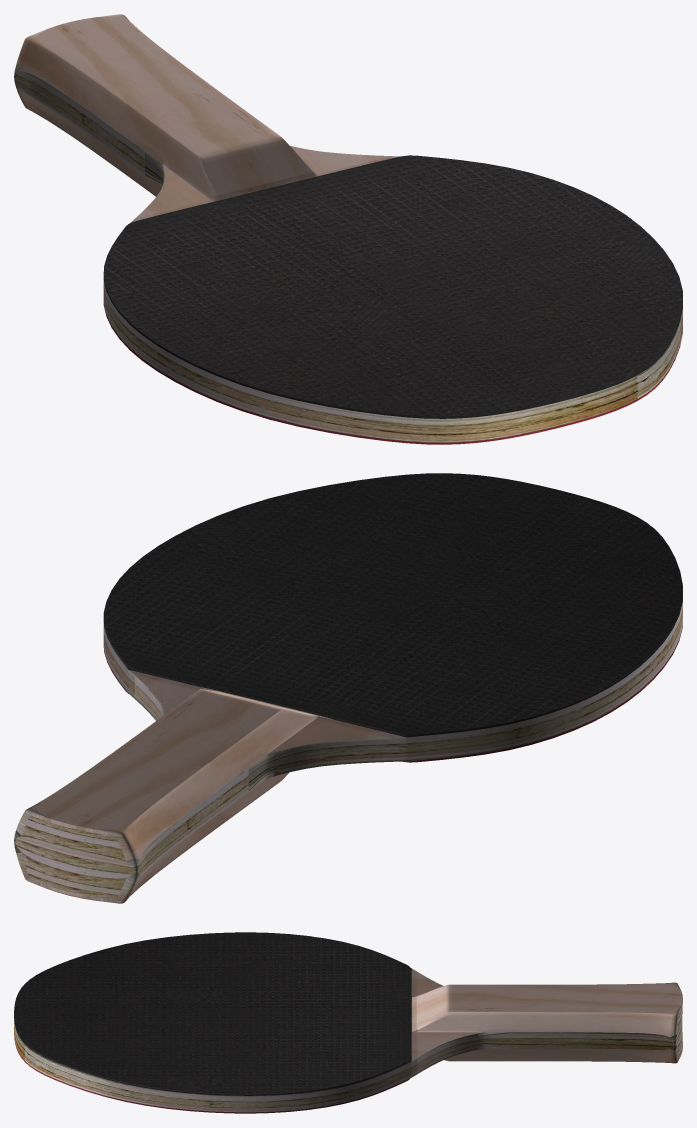
Rendered from paddle-transformed.glb.
The picture shows the model from 3 angles, top to bottom: view 1: azimuth 30°, elevation 25°; view 2: azimuth 150°, elevation 25°; view 3: azimuth 270°, elevation 25°; orthographic projection. The views are drawn at different scales.
Visible parts, largest first — view 1: 10519_pingpong_paddle; view 2: 10519_pingpong_paddle; view 3: 10519_pingpong_paddle.
Part boxes in pixels (x1=…): 10519_pingpong_paddle: x1=14, y1=14, x2=682, y2=444; 10519_pingpong_paddle: x1=14, y1=473, x2=682, y2=903; 10519_pingpong_paddle: x1=14, y1=932, x2=682, y2=1113.
Size of the model in its own units: 14.94 by 2.11 by 26.04.
1 material, 1 textured.
